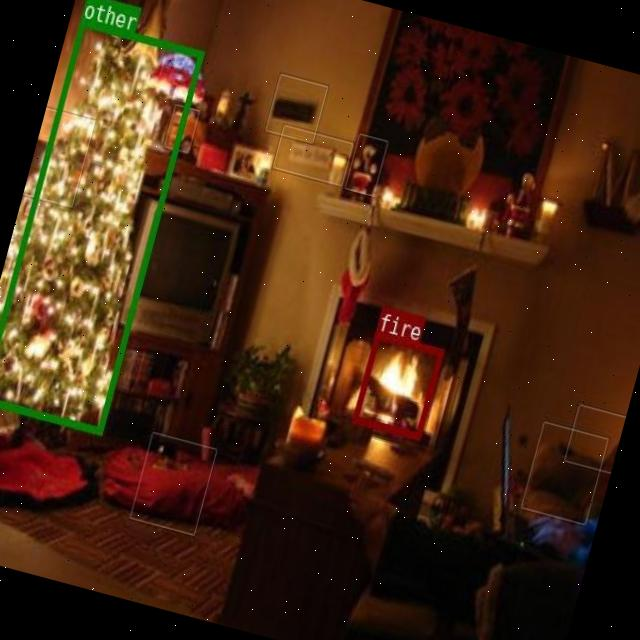fire: (351, 331, 444, 438)
